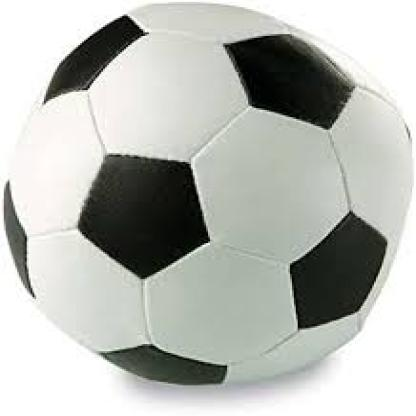ball: (7, 1, 416, 383)
